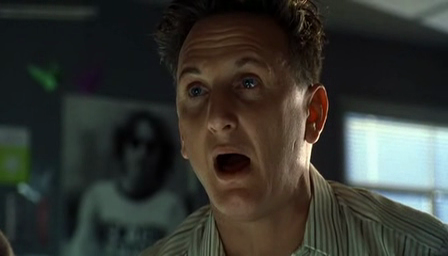cu: (1, 1, 448, 256)
face: (176, 34, 291, 222)
person: (133, 1, 448, 256)
